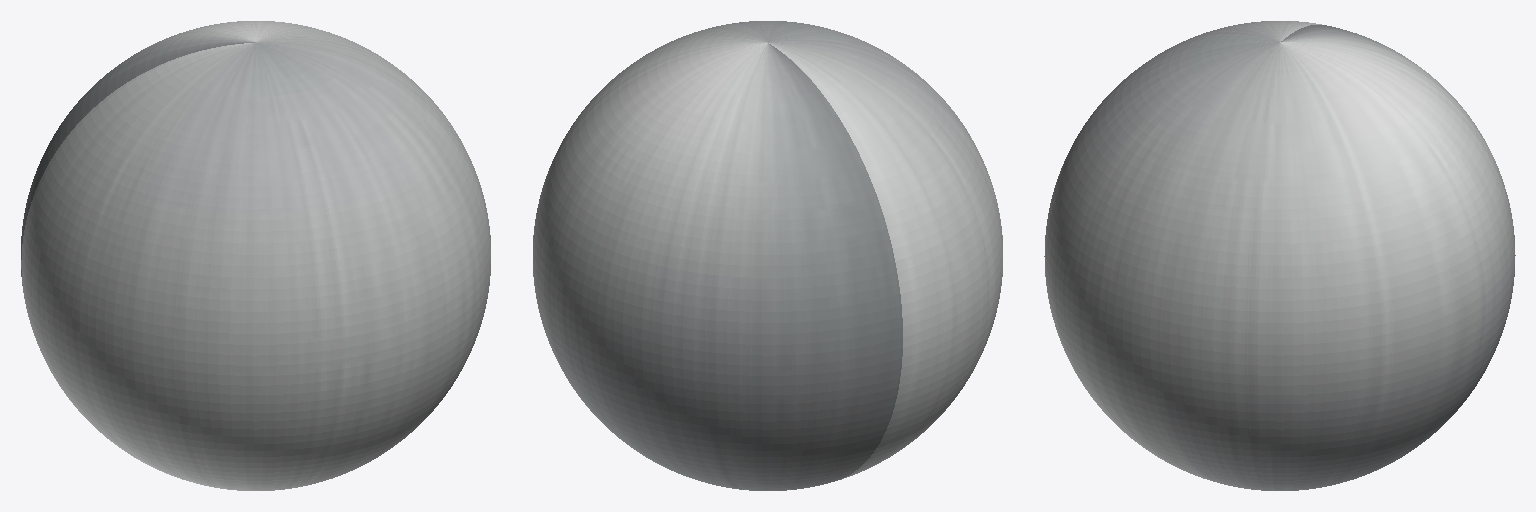
3 views of the same model, side by side, from view 1: azimuth 30°, elevation 25°; view 2: azimuth 150°, elevation 25°; view 3: azimuth 270°, elevation 25° (orthographic).
Parts seen in each view (by area): view 1: Sphere; view 2: Sphere; view 3: Sphere.
Part boxes in pixels (x1,y1,x2,y2): Sphere: (21, 21, 490, 490); Sphere: (533, 21, 1002, 490); Sphere: (1044, 21, 1515, 490).
Size of the model in its own units: 1.5 by 1.5 by 1.5.
Materials: 1 (1 with a texture image).